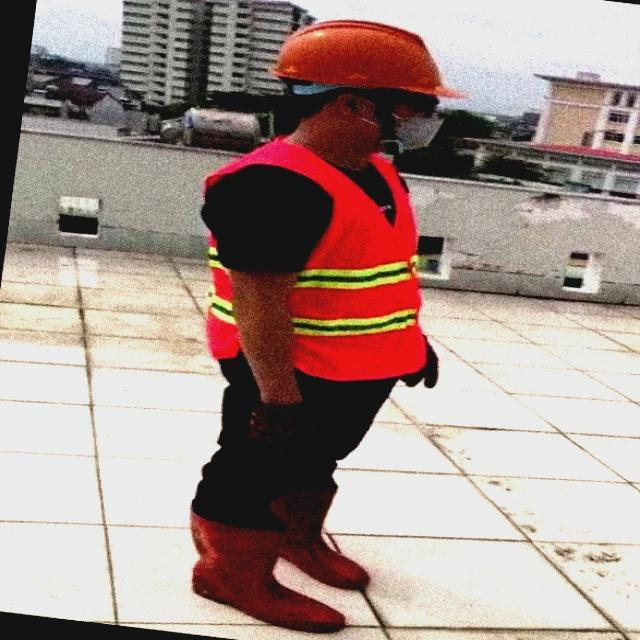Capacete: (272, 20, 465, 97)
Colete: (204, 138, 424, 380)
Pessoa: (191, 20, 459, 632)
